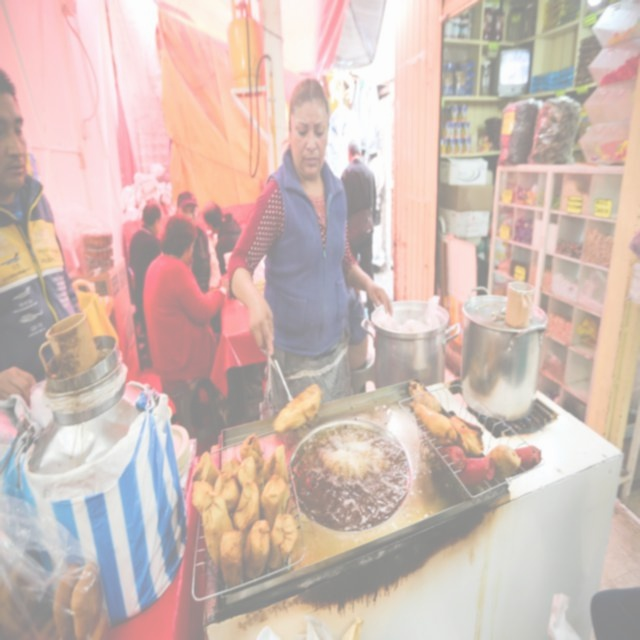pessoa: (222, 76, 396, 423), (0, 68, 83, 410), (142, 212, 229, 412), (340, 139, 378, 323), (129, 200, 163, 368), (174, 190, 222, 294), (362, 142, 388, 276), (202, 200, 242, 276)
